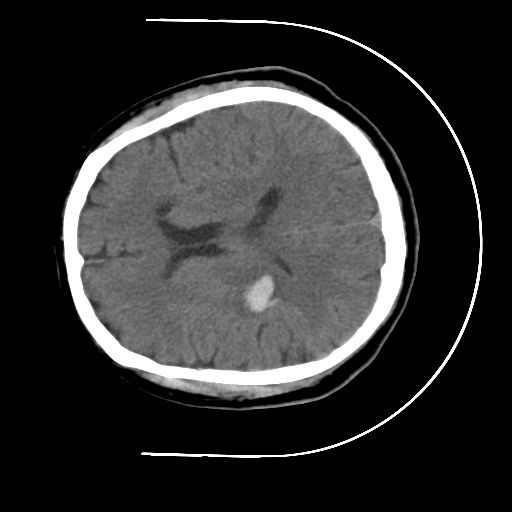a: (216, 260, 293, 330)
